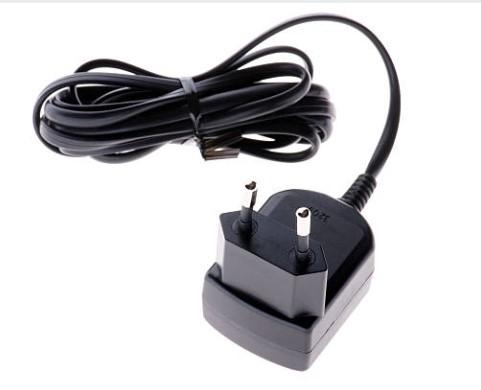cable: (33, 14, 401, 370)
